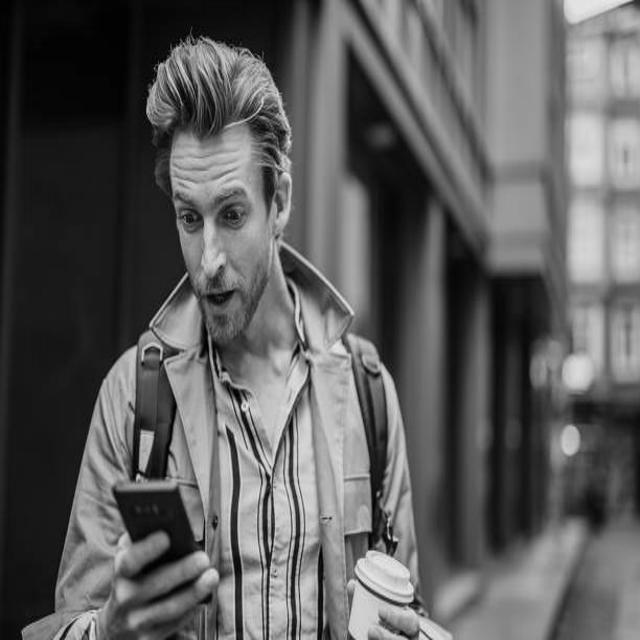Surprised: (167, 120, 280, 348)
